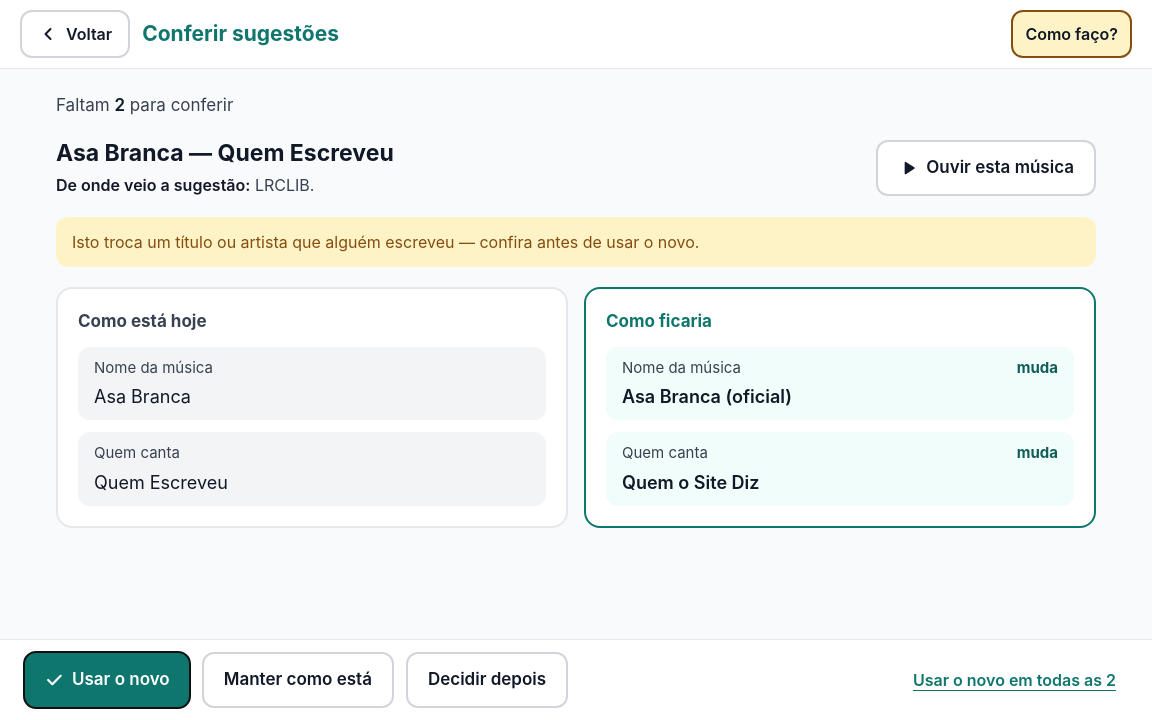
Test: Conferir (V15) — uma sugestão por vez › 'Manter como está' não grava nada e passa para a próxima
Step 1. Click the button "Manter como está" → (298, 680), box [202,652,394,708]
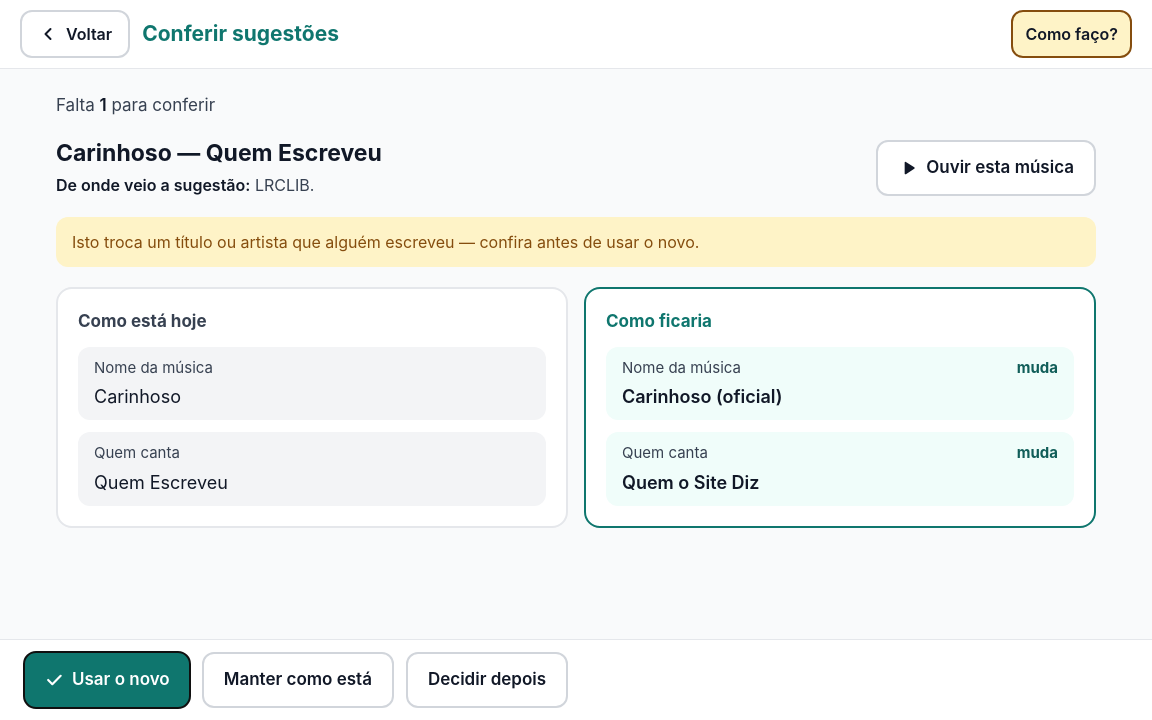
Expected: the heading "Carinhoso — Quem Escreveu" is shown, [56,138,382,166]
